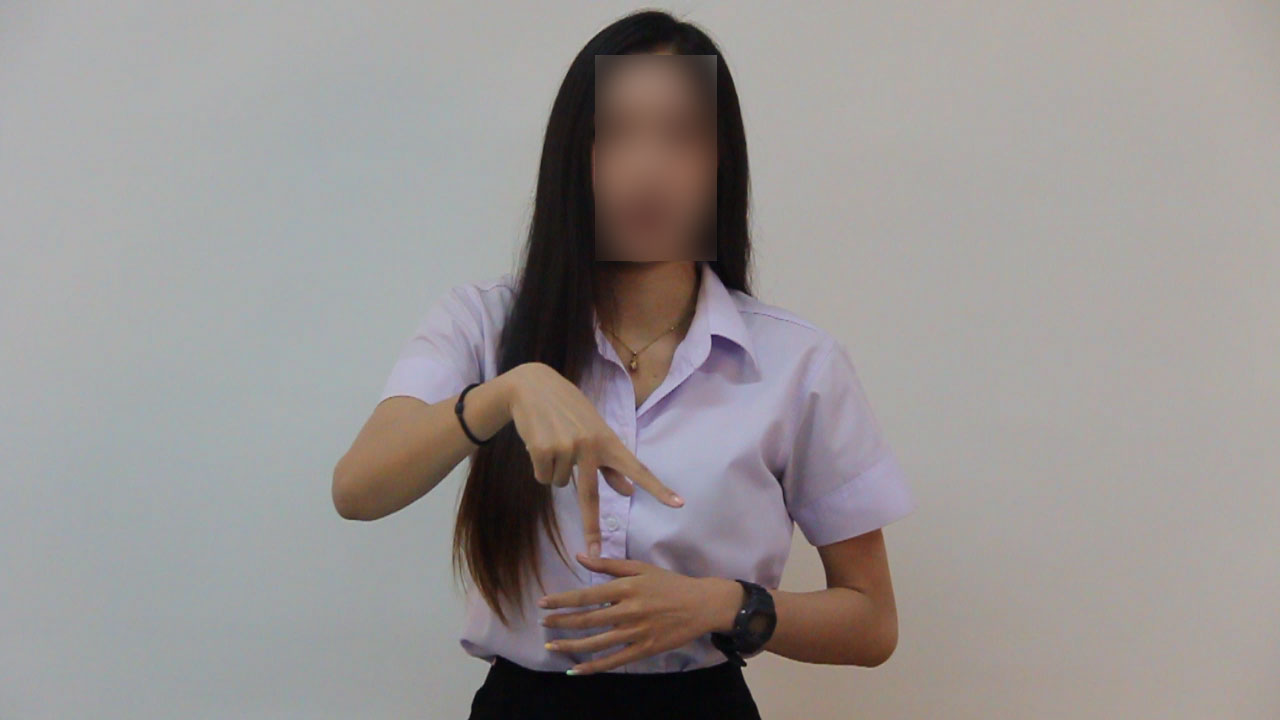por: (493, 346, 688, 563)
